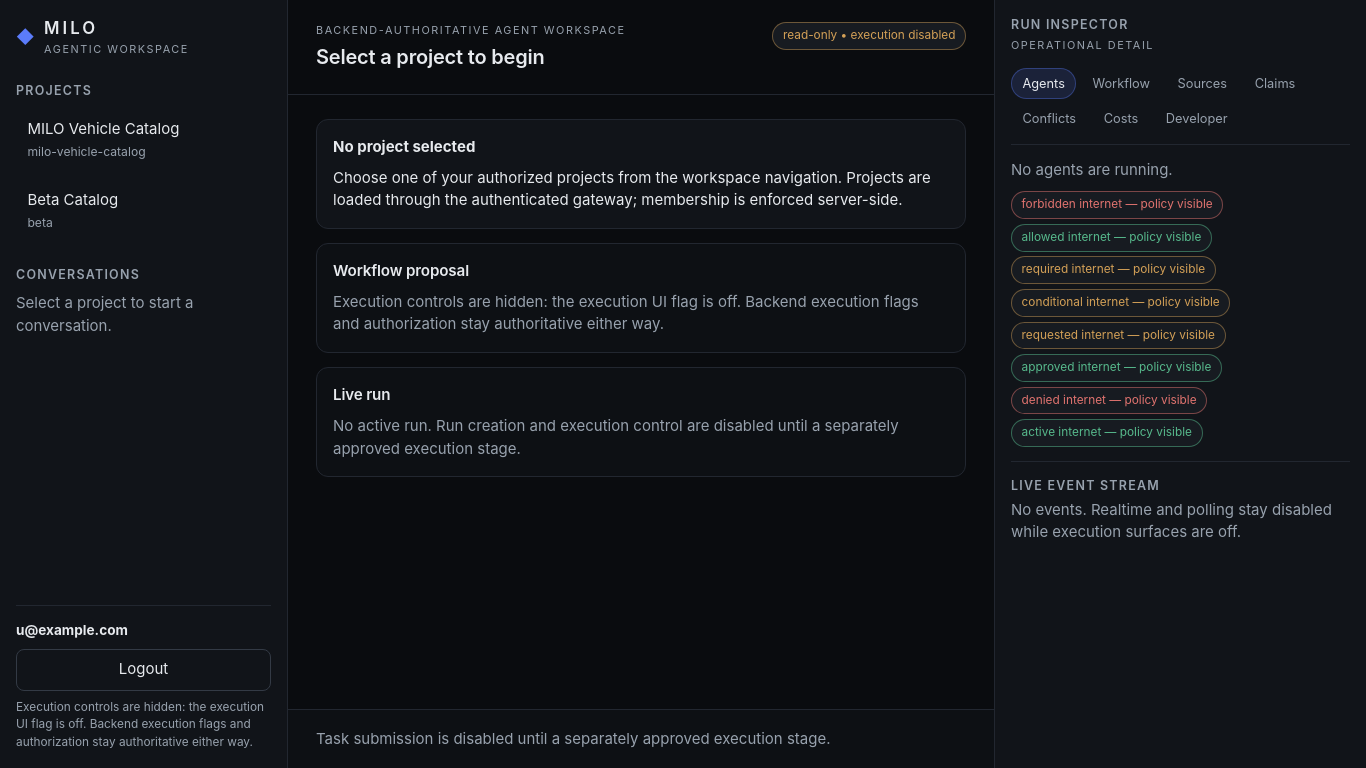
it: canonical and review rows are never confusable › shows canonical rows under their own heading, with no candidate marker
Click the text "MILO Vehicle Catalog".
click(103, 128)  # box [27,119,179,138]
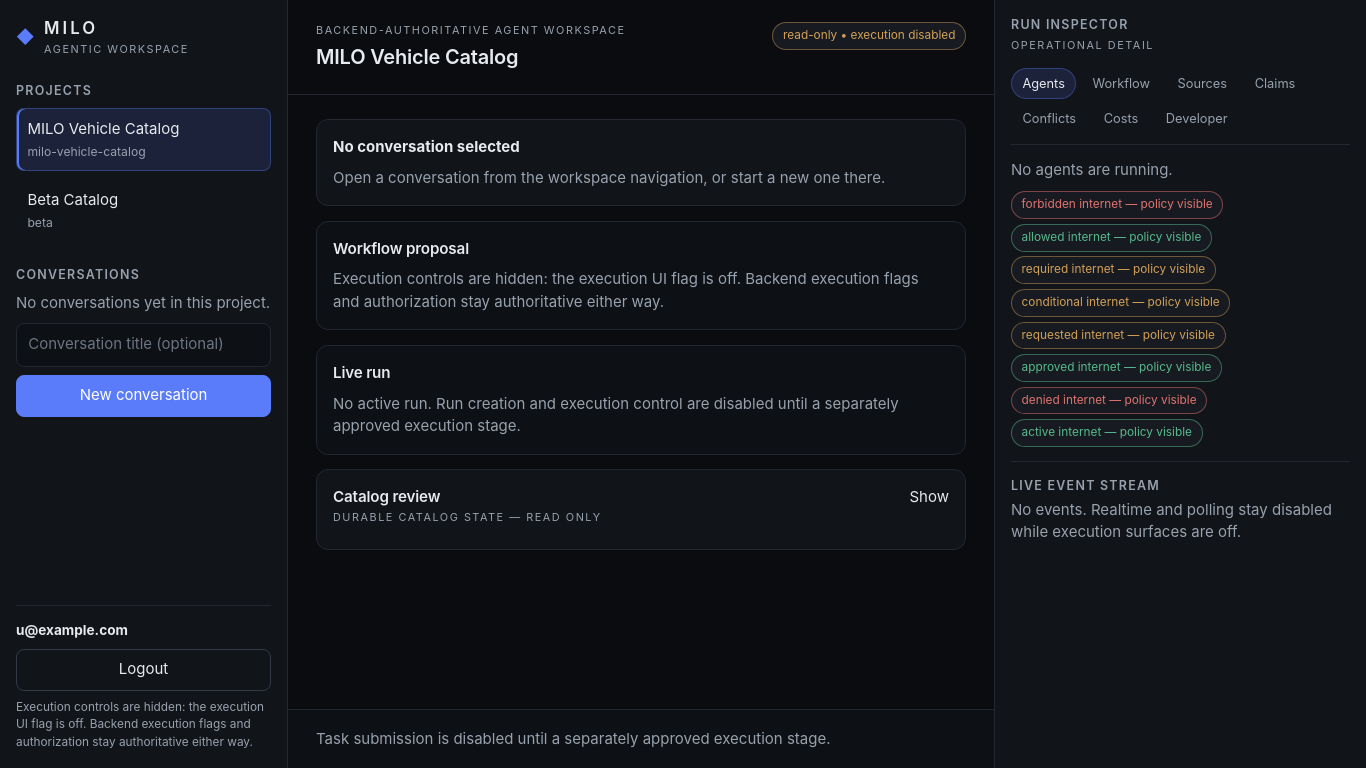
Click the button "Show".
click(929, 497)  # box [910,486,949,508]
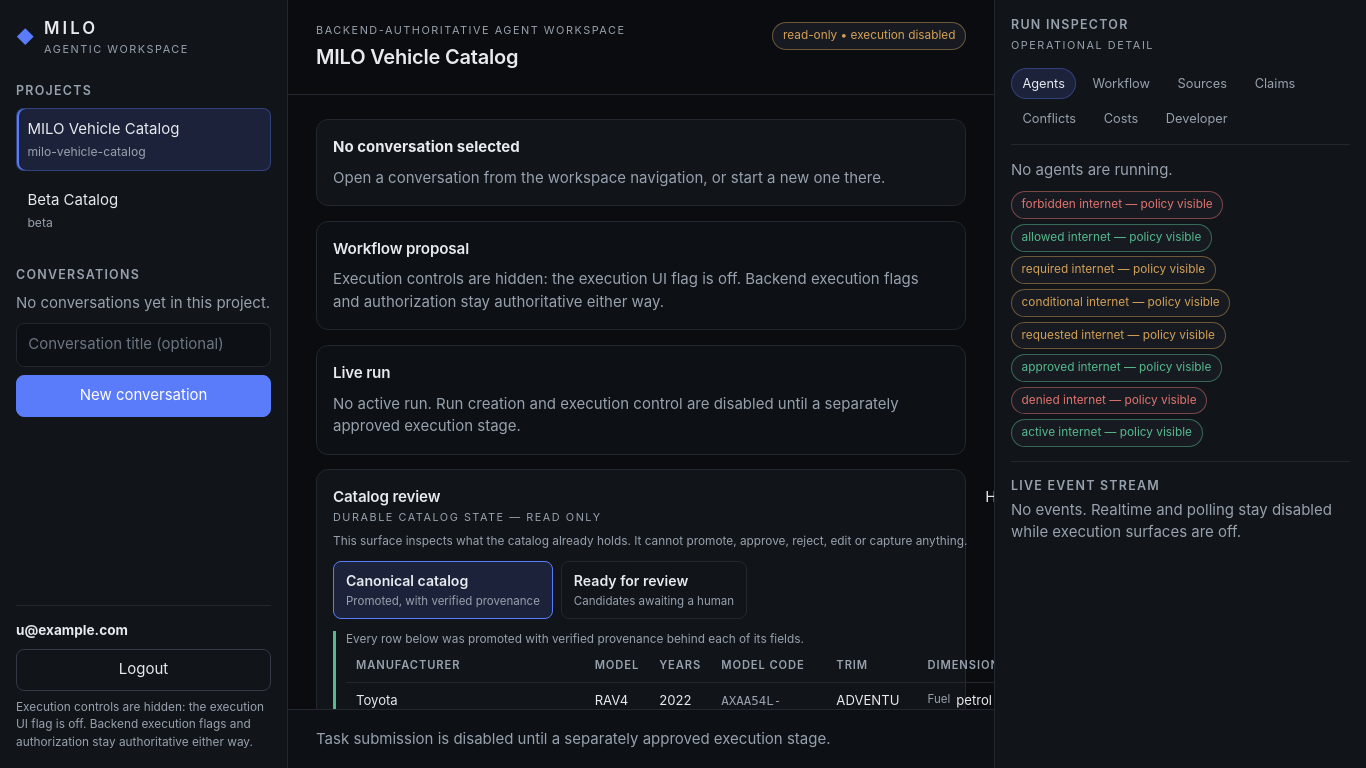
Expected: the text "RAV4" is shown, [595,692,628,708]
